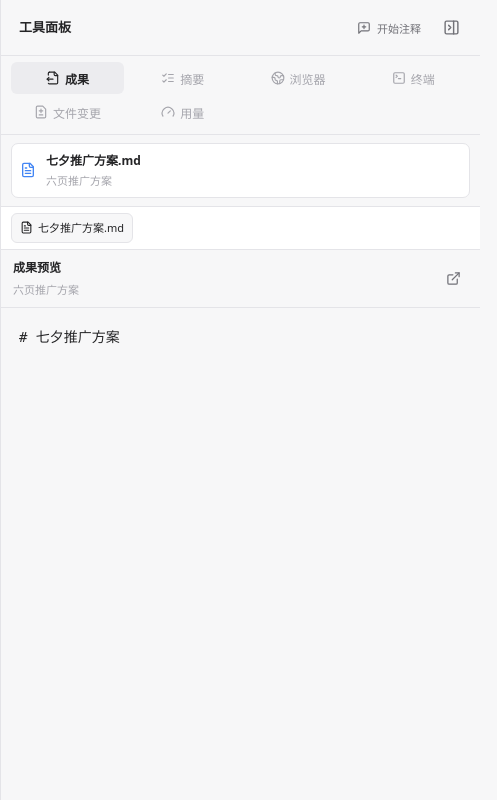
Test case: WorkbenchPanel › 默认展示成果，并可切换到终端记录
Check: the button with aria-label "打开 七夕推广方案.md" is shown, box [46,151,461,190]
Click the tab "终端" at (413, 78), box [357,62,470,94]
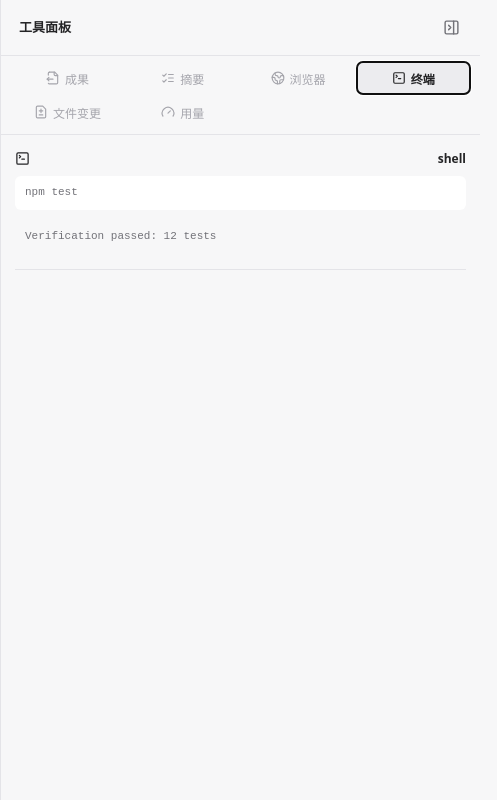
Check: the text "Verification passed: 12 tests" is shown, box [25,230,216,242]
Check: the text "npm test" is shown, box [15,176,466,210]
